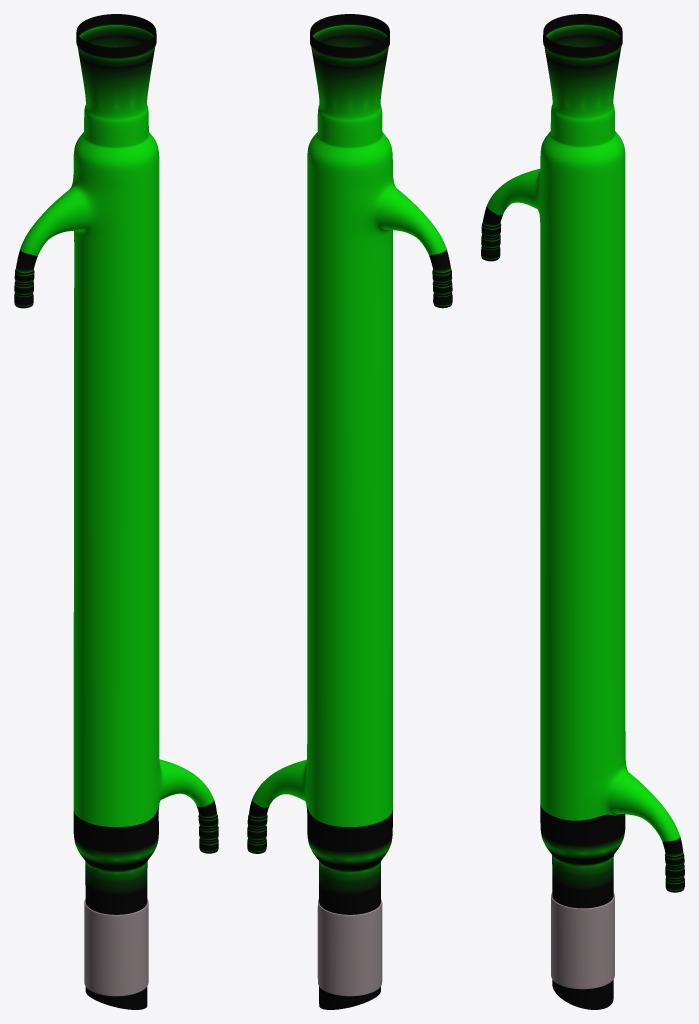
Rendered from 直型冷凝管.fbx.
The picture shows the model from 3 angles, left to right: view 1: azimuth 30°, elevation 25°; view 2: azimuth 150°, elevation 25°; view 3: azimuth 330°, elevation 25°; orthographic projection.
Parts seen in each view (by area): view 1: lengningguan_02:polySurface17, lengningguan_02:polySurface22; view 2: lengningguan_02:polySurface17, lengningguan_02:polySurface22; view 3: lengningguan_02:polySurface17, lengningguan_02:polySurface22.
Boxes of the visible parts, x1,y1,x2,y2 form: lengningguan_02:polySurface17: (14,14,218,1009); lengningguan_02:polySurface22: (84,899,148,996); lengningguan_02:polySurface17: (247,14,452,1009); lengningguan_02:polySurface22: (317,899,382,996); lengningguan_02:polySurface17: (481,14,684,1009); lengningguan_02:polySurface22: (551,892,614,989).
Size of the model in its own units: 26.28 by 121 by 9.64.
